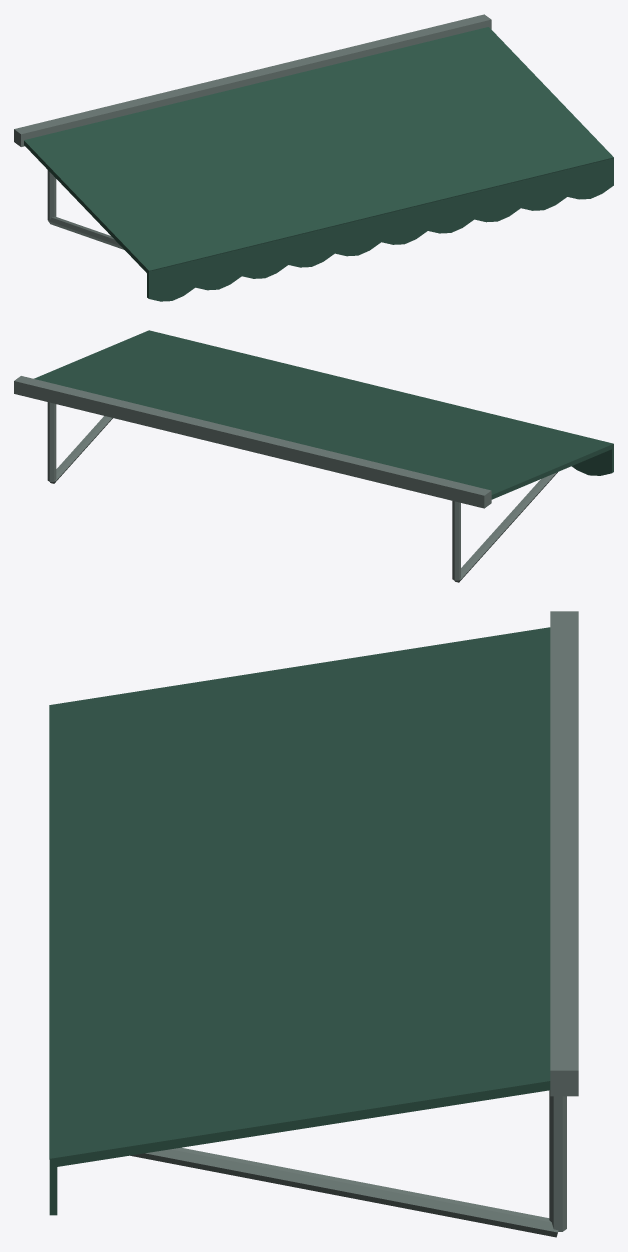
3 views of the same model, one above another, from view 1: azimuth 30°, elevation 25°; view 2: azimuth 150°, elevation 25°; view 3: azimuth 270°, elevation 25° (orthographic). The views are drawn at different scales.
Parts seen in each view (by area): view 1: a40; view 2: a40; view 3: a40.
Part boxes in pixels (x1,y1,x2,y2): a40: [14, 14, 613, 301]; a40: [14, 330, 613, 582]; a40: [49, 611, 578, 1237].
Size of the model in its own units: 1.72 by 0.3444 by 0.8379.
